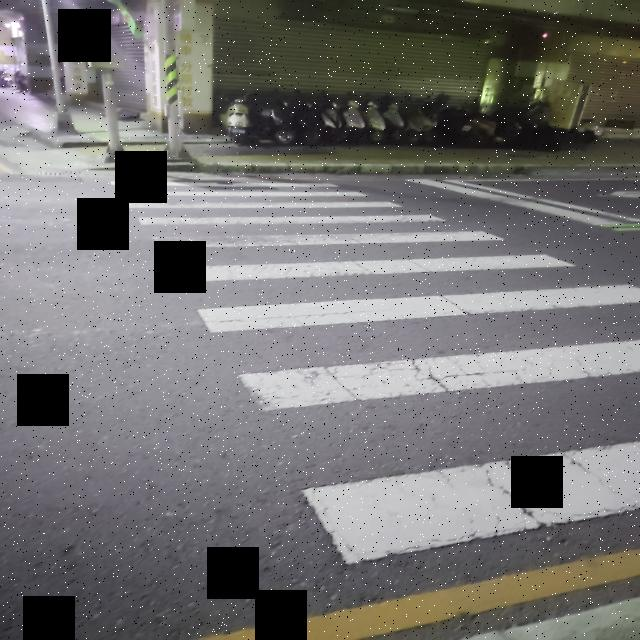zebra_crossing: (109, 179, 640, 559)
